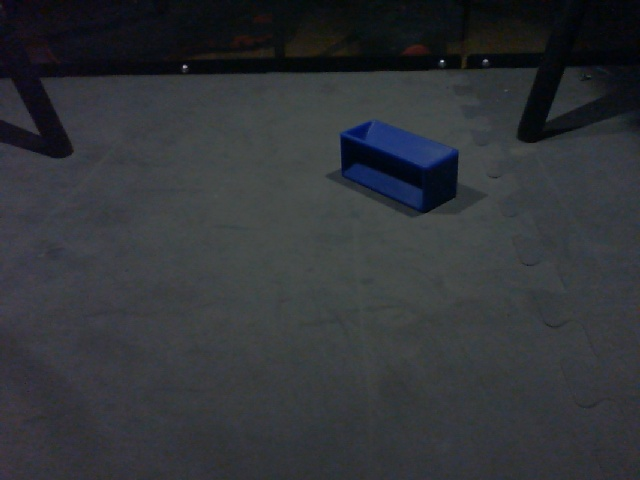BlueSample: (336, 117, 461, 215)
